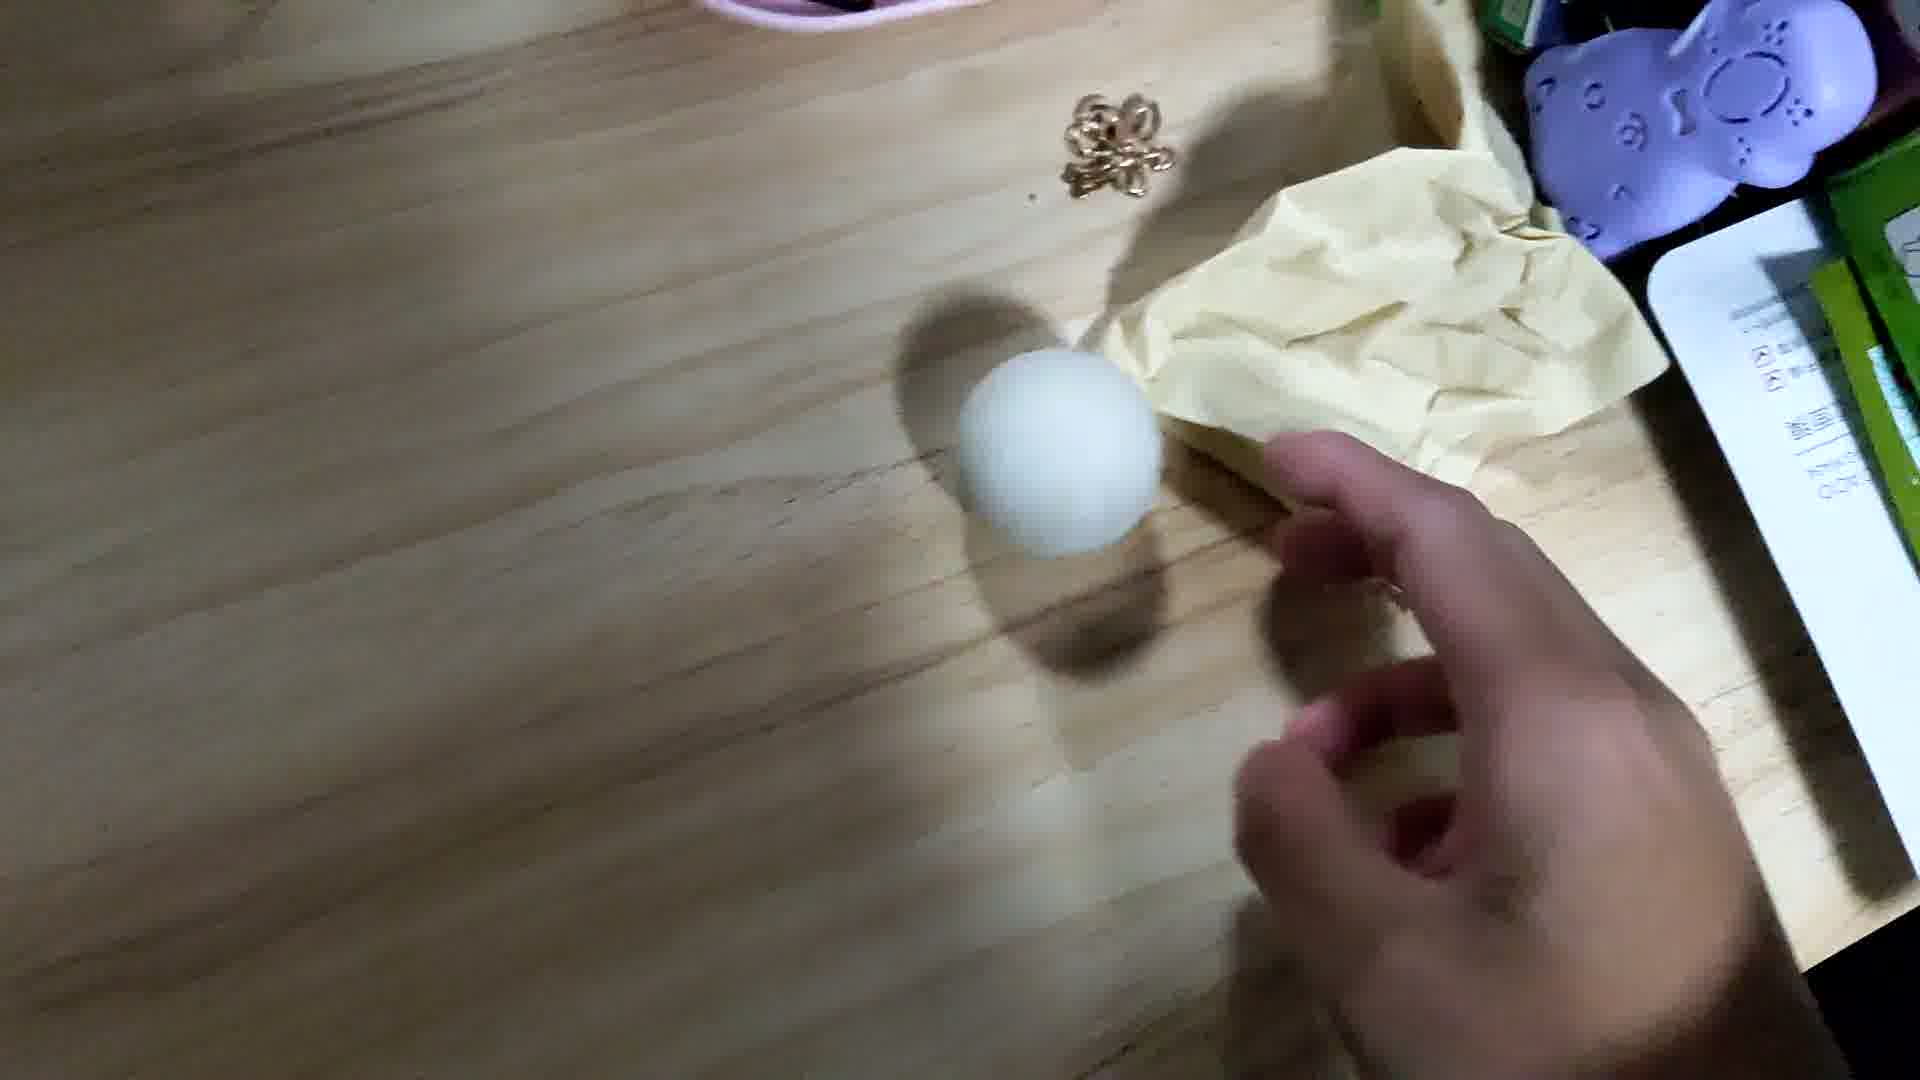Ball: (963, 349, 1164, 550)
